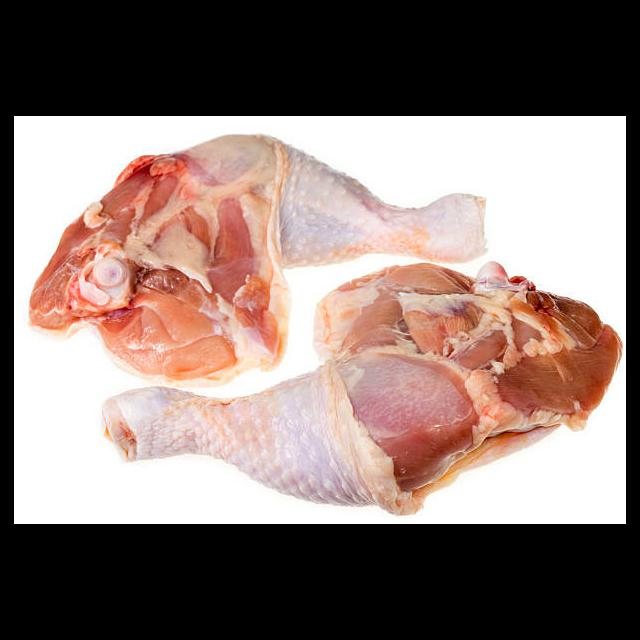chicken: (98, 261, 626, 518), (26, 134, 489, 388)
